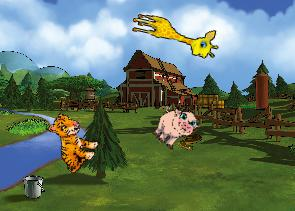giraffe: (127, 11, 221, 61)
pig: (147, 99, 202, 155)
tiger: (35, 109, 105, 177)
